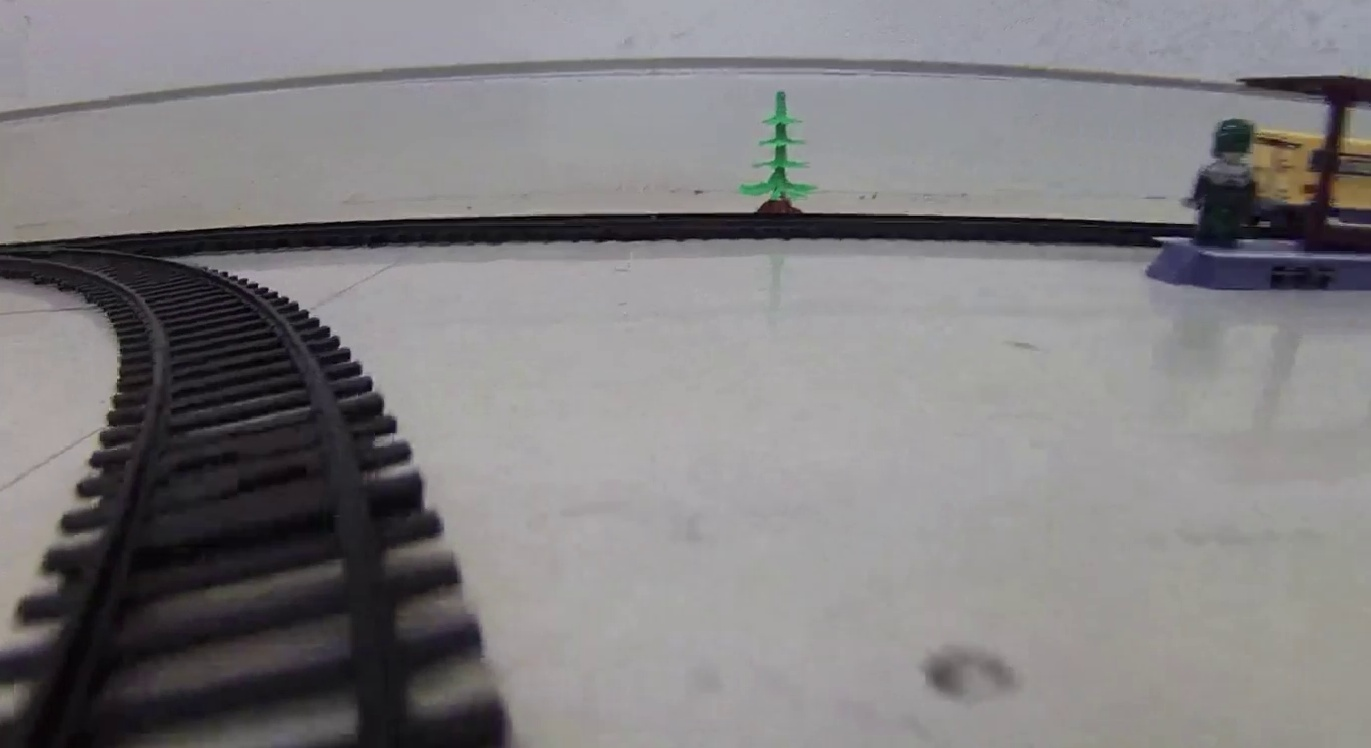people: (1184, 118, 1263, 248)
tree: (732, 88, 820, 211)
